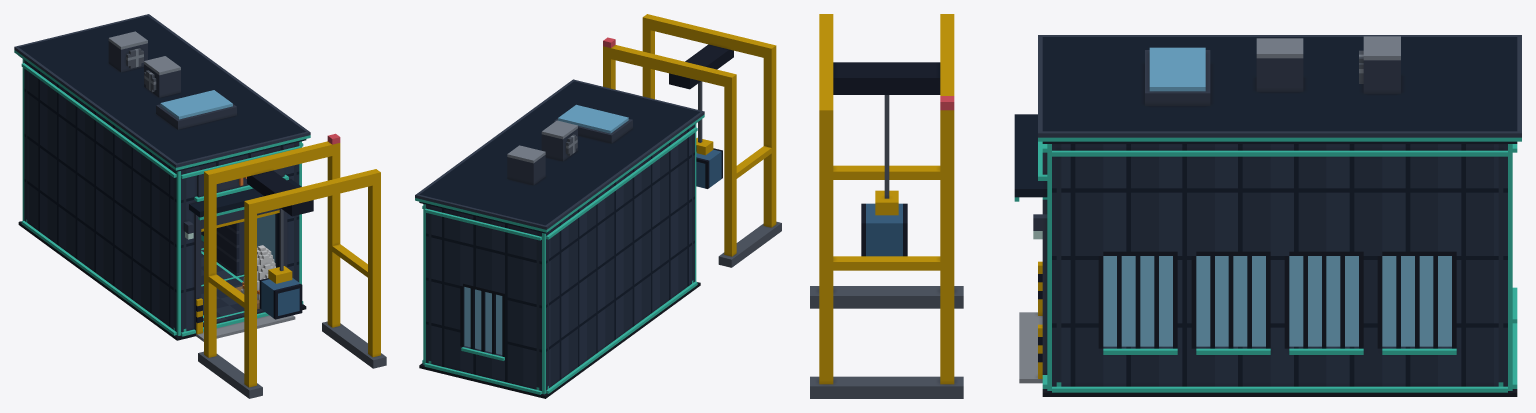
Rendered from workshop_e4_l3.glb.
3 views of the same model, side by side, from view 1: azimuth 30°, elevation 25°; view 2: azimuth 150°, elevation 25°; view 3: azimuth 270°, elevation 25° (orthographic). The views are drawn at different scales.
Visible parts, largest first — view 1: Base, CutRoof, CutNX, CutPZ, CutNZ, CutPX; view 2: CutRoof, Base, CutNX, CutNZ, CutPZ; view 3: CutPX, CutRoof, Base, CutPZ, CutNZ.
Part boxes in pixels (x1,y1,x2,y2): Base: (18, 133, 386, 398); CutRoof: (14, 14, 310, 171); CutNX: (21, 62, 176, 306); CutPZ: (173, 141, 301, 310); CutNZ: (22, 59, 27, 199); CutPX: (257, 143, 303, 265); CutRoof: (415, 79, 704, 233); Base: (419, 14, 781, 398); CutNX: (546, 127, 697, 365); CutNZ: (423, 204, 548, 369); CutPZ: (692, 124, 696, 261); CutPX: (1052, 144, 1507, 354); CutRoof: (1038, 35, 1521, 143); Base: (810, 14, 1517, 398); CutPZ: (1014, 114, 1061, 352); CutNZ: (1498, 144, 1517, 352).
Bounding box in the file's own units: 5.1 × 7.2 × 15.3.
